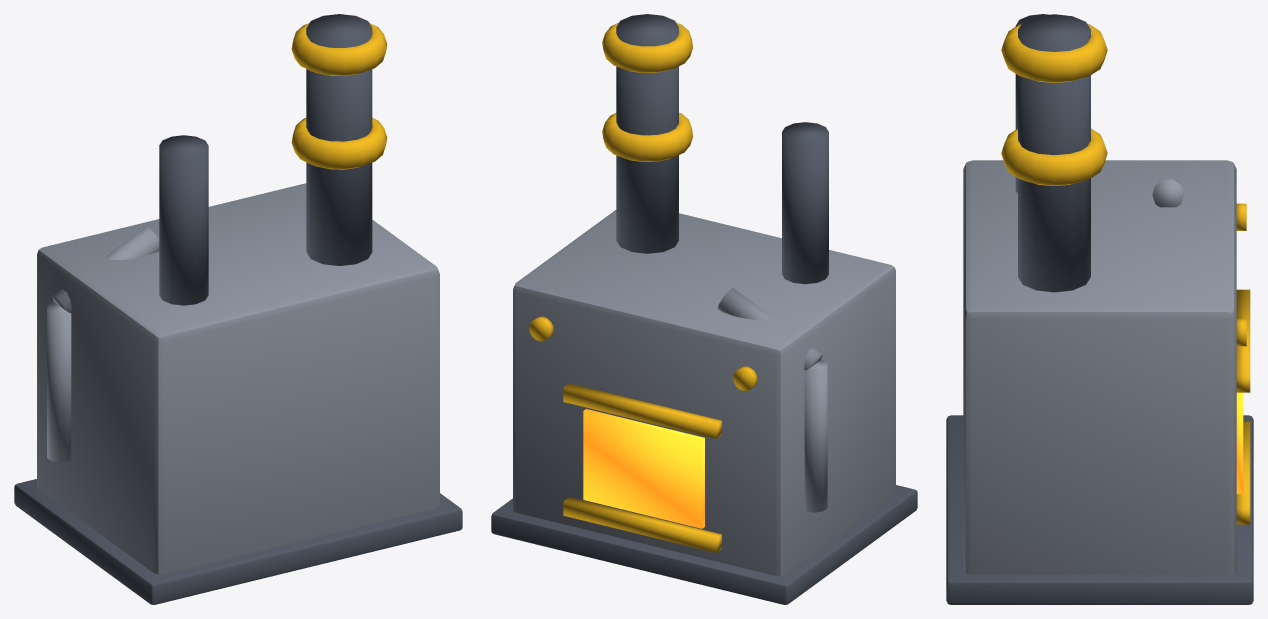
Rendered from industrial_furnace.glb.
The picture shows the model from 3 angles, left to right: view 1: azimuth 30°, elevation 25°; view 2: azimuth 150°, elevation 25°; view 3: azimuth 270°, elevation 25°; orthographic projection. The views are drawn at different scales.
Visible parts, largest first — view 1: IndustrialFurnace; view 2: IndustrialFurnace; view 3: IndustrialFurnace.
Boxes of the visible parts, bbox=[...] form: IndustrialFurnace: bbox=[14, 14, 462, 604]; IndustrialFurnace: bbox=[491, 14, 917, 604]; IndustrialFurnace: bbox=[946, 14, 1253, 604].
Bounding box in the file's own units: 1.76 × 2.6 × 1.35.
